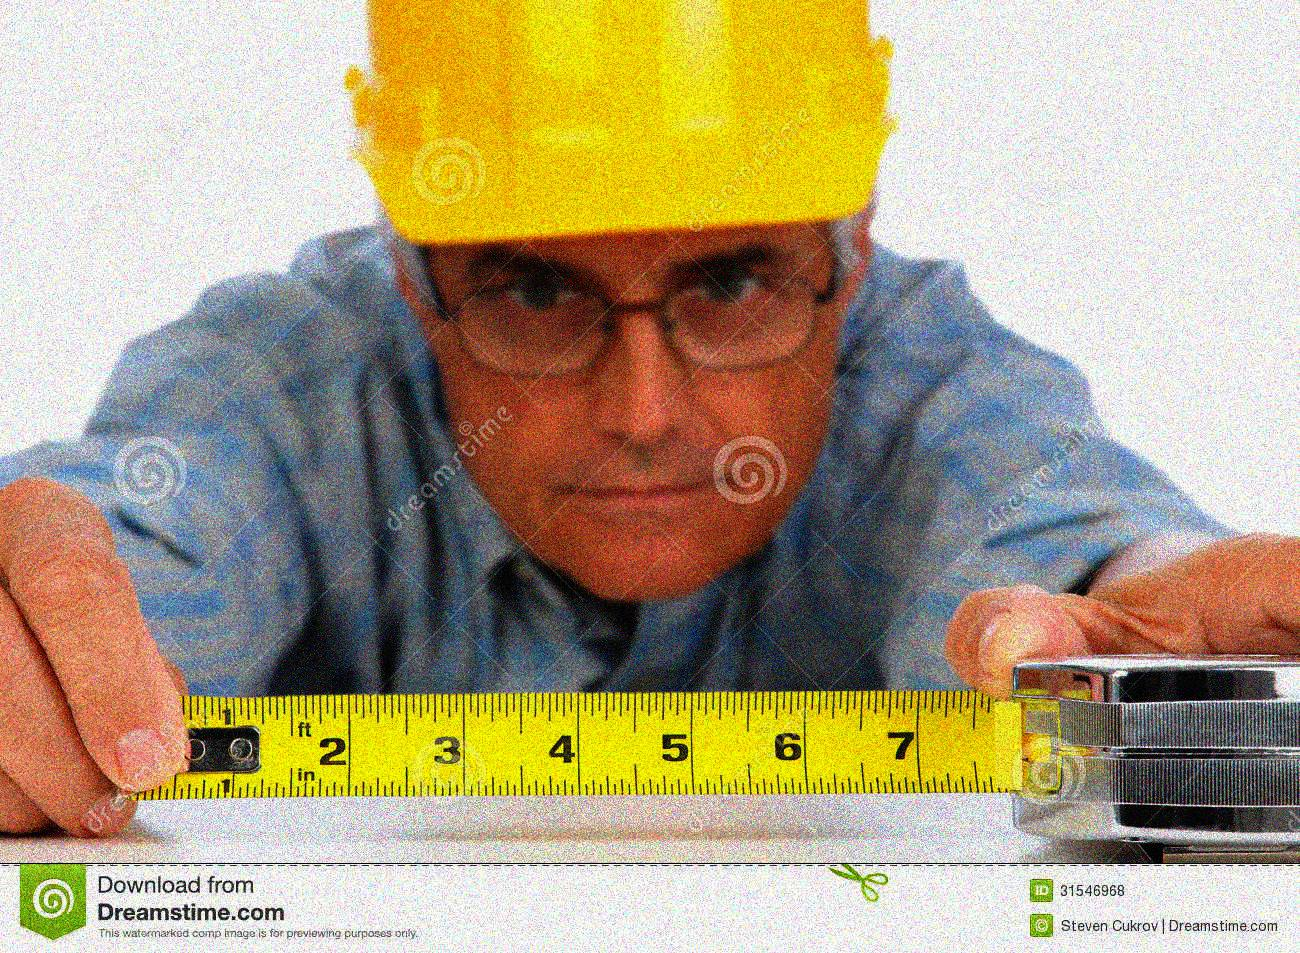helmet: (356, 1, 905, 610)
